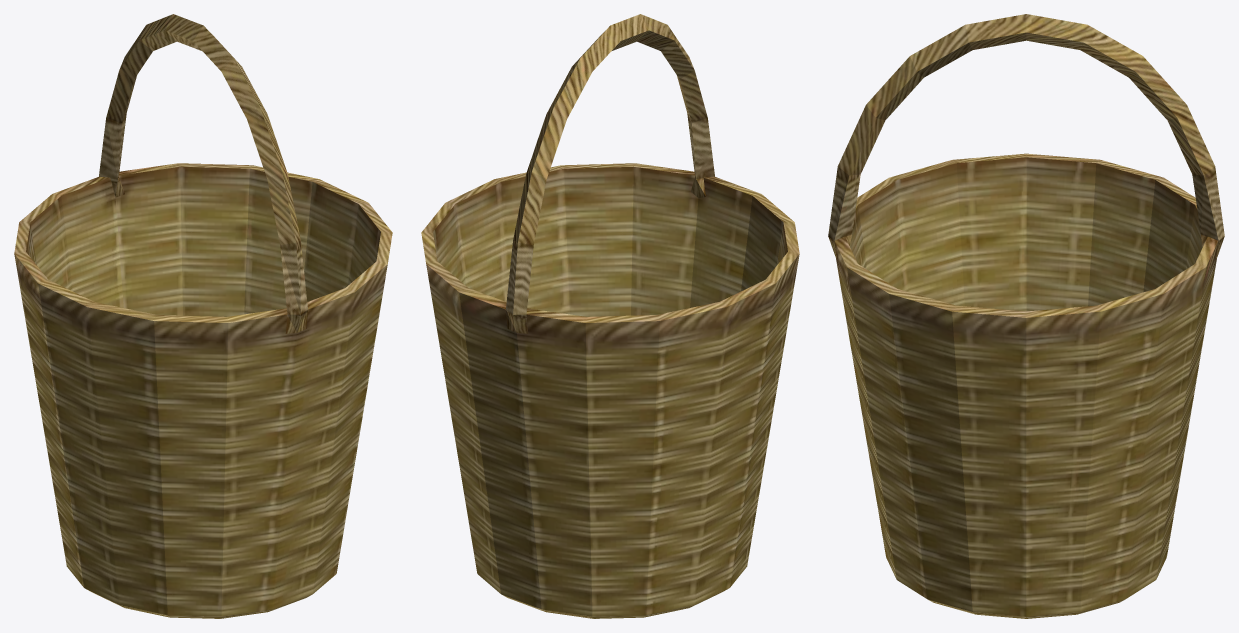
The model's file is Pr_Basket.glb.
3 renders of one model, left to right at view 1: azimuth 30°, elevation 25°; view 2: azimuth 150°, elevation 25°; view 3: azimuth 270°, elevation 25°, orthographic.
Parts seen in each view (by area): view 1: Pr_Basket; view 2: Pr_Basket; view 3: Pr_Basket.
Part boxes in pixels (box(x1,y1,x2,y2)): Pr_Basket: box(14, 14, 392, 618); Pr_Basket: box(421, 14, 799, 618); Pr_Basket: box(828, 14, 1224, 618).
Bounding box in the file's own units: 0.4328 × 0.6748 × 0.4417.
Materials: 1 (1 with a texture image).
